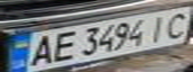3: (78, 25, 100, 56)
4: (127, 16, 154, 47), (97, 21, 118, 53)
9: (112, 19, 133, 51)
A: (24, 33, 60, 69)
C: (160, 8, 193, 41)
E: (48, 29, 78, 64)
I: (145, 12, 172, 43)
